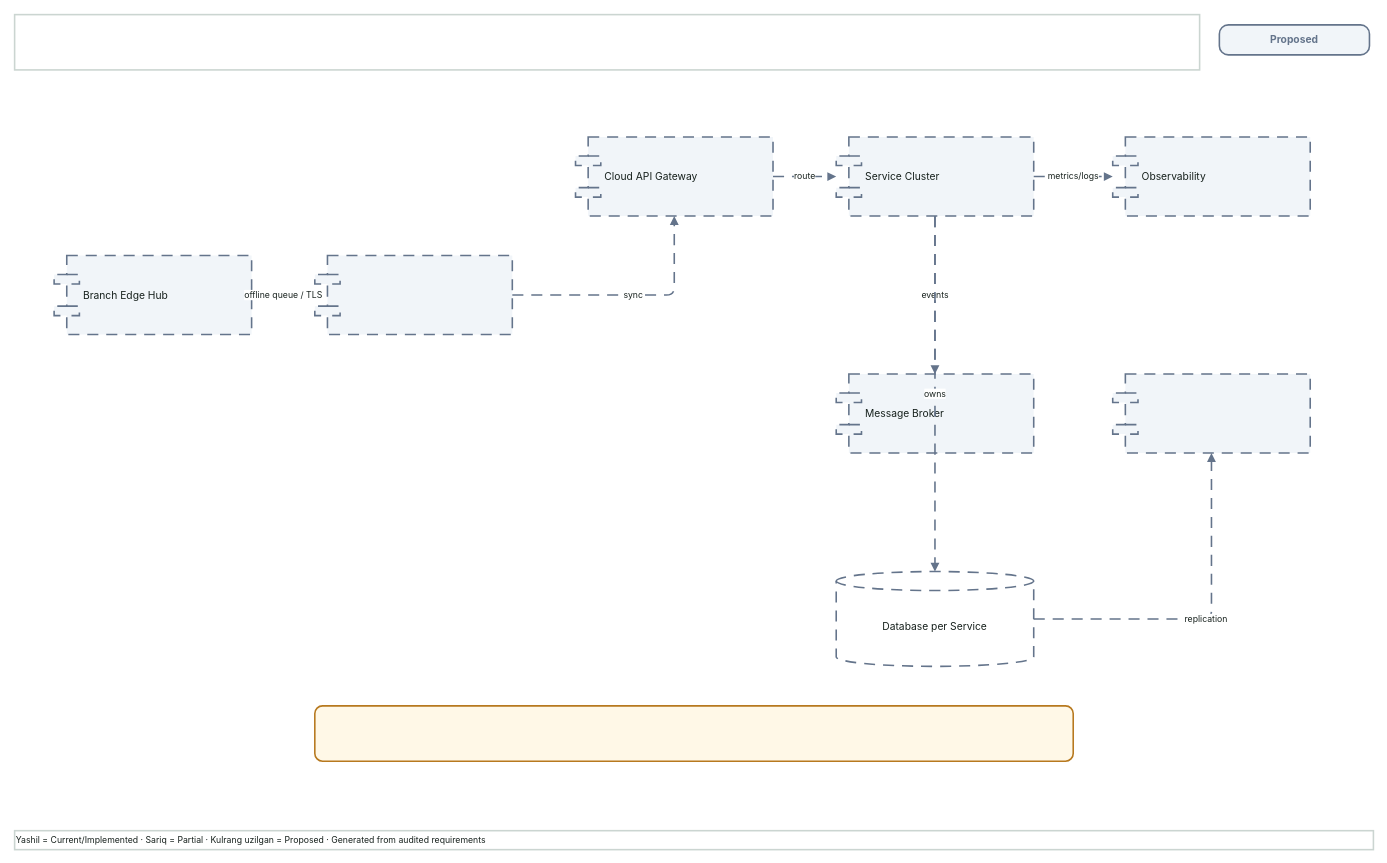
Image size: 1387x863. Some labels were removed from this diagram. The shapes that lost their labels are listed below. From the top down, each one's centre as x and y in pixels, then its label:
At point (606, 41): "D24 · Proposed Microservices Deployment UML Deployment · osonCafe SDLC".
At point (413, 294): "TLS Internet".
At point (1211, 413): "Cloud Backup".
At point (694, 733): "Conflict resolution, multi-branch sync va cloud operating model — Proposed".
